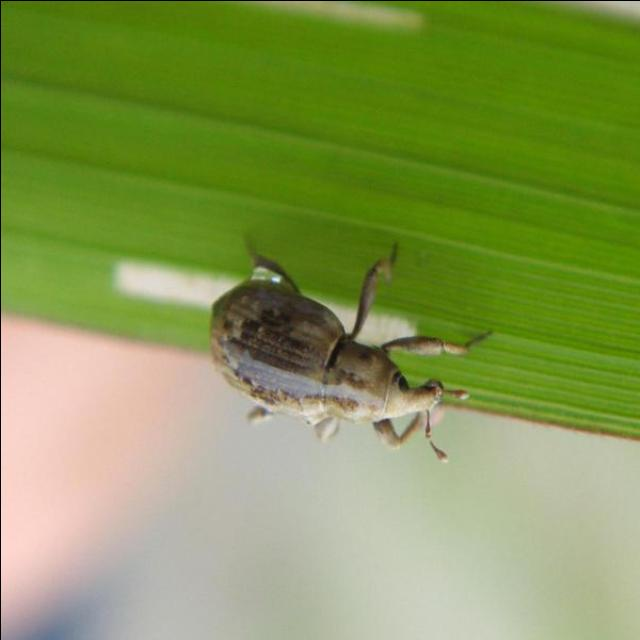ricebug: (210, 240, 490, 446)
